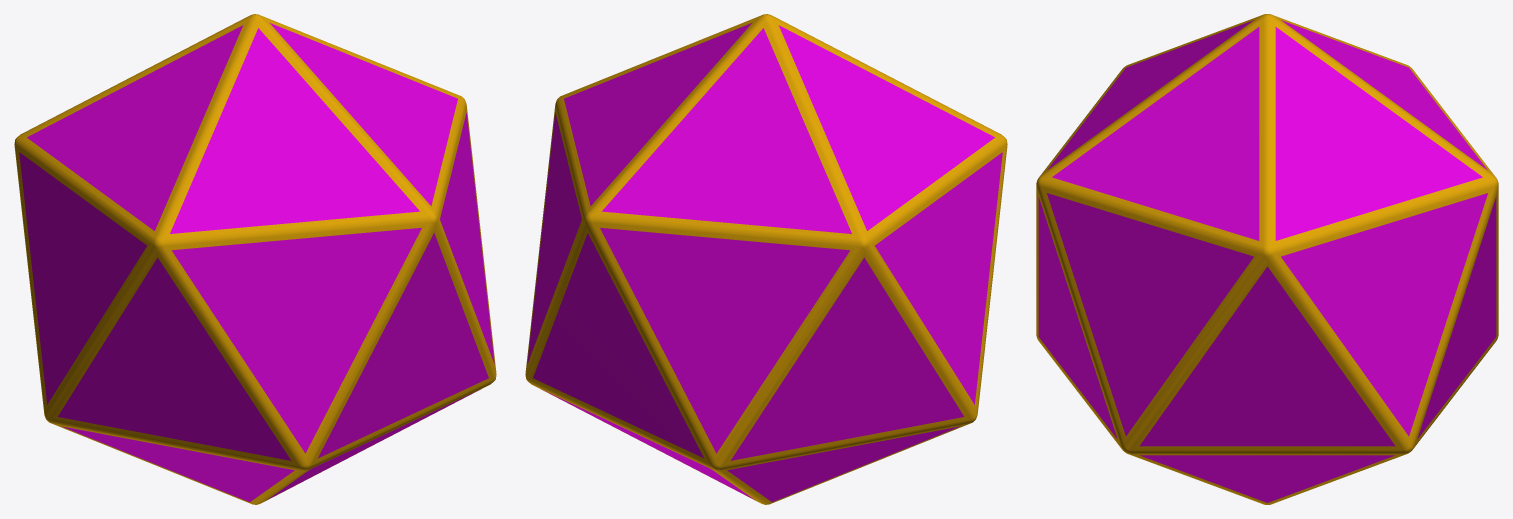
Rendered from prp_D20.fbx.
3 renders of one model, left to right at view 1: azimuth 30°, elevation 25°; view 2: azimuth 150°, elevation 25°; view 3: azimuth 270°, elevation 25°, orthographic.
Parts seen in each view (by area): view 1: prp_D20; view 2: prp_D20; view 3: prp_D20.
Part boxes in pixels (left/top/right/bottom): prp_D20: left=14, top=14, right=496, bottom=504; prp_D20: left=525, top=14, right=1007, bottom=504; prp_D20: left=1036, top=14, right=1498, bottom=504.
Size of the model in its own units: 0.8369 by 0.7982 by 0.9328.
